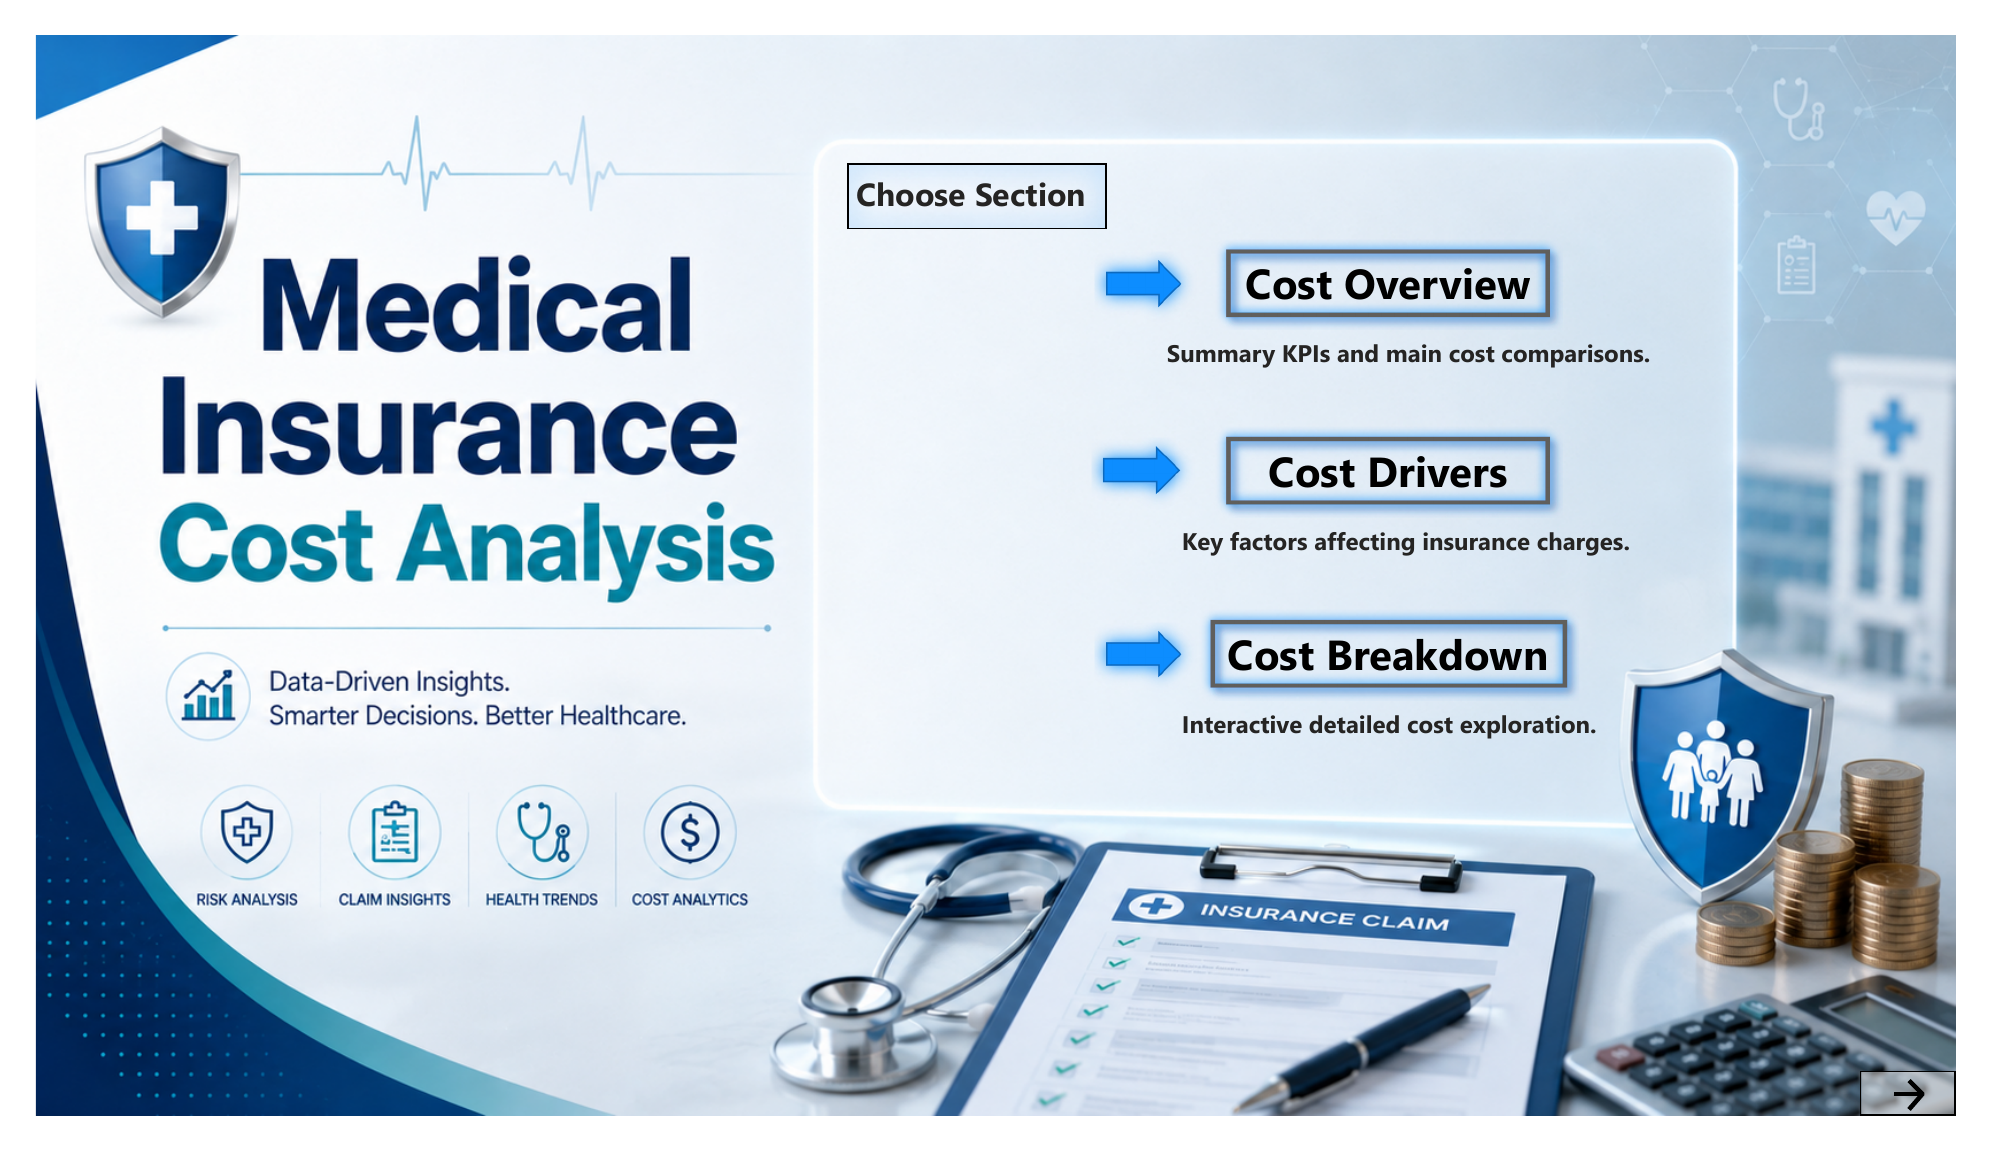

Layout of this report page (visuals, bound fields, positions):
{"tool":"powerbi","page":{"name":"Home","canvas":[1280,720],"ordinal":0},"visuals":[{"type":"actionButton","box":[784.9,133.1,233.3,63.1],"z":0},{"type":"actionButton","box":[784.9,258,233.3,63.1],"z":1000},{"type":"actionButton","box":[773.9,380.1,255.2,63.1],"z":2000},{"type":"textbox","box":[749.2,196.2,344.4,34.3],"z":3000},{"type":"textbox","box":[758.8,321.1,344.4,34.3],"z":4000},{"type":"textbox","box":[758.8,443.2,334.8,34.3],"z":5000},{"type":"textbox","box":[540.7,85.1,172.9,43.9],"z":6000},{"type":"shape","box":[702.6,138.6,71.4,52.1],"z":7000},{"type":"shape","box":[701.2,263.5,71.4,52.1],"z":8000},{"type":"shape","box":[702.6,385.6,71.4,52.1],"z":9000},{"type":"actionButton","box":[1215.5,689.8,64.5,30.2],"z":10000}]}

Visuals, with their boxes in screenshot pixels (x1, y1, x2, y2), scaled from the page's 1280x720 canvas onto the 1992x1152 screenshot:
actionButton: (1222,213,1585,314)
actionButton: (1222,413,1585,514)
actionButton: (1204,608,1602,709)
textbox: (1166,314,1702,369)
textbox: (1181,514,1717,569)
textbox: (1181,709,1702,764)
textbox: (841,136,1111,206)
shape: (1093,222,1205,305)
shape: (1091,422,1202,505)
shape: (1093,617,1205,700)
actionButton: (1892,1104,1991,1151)
